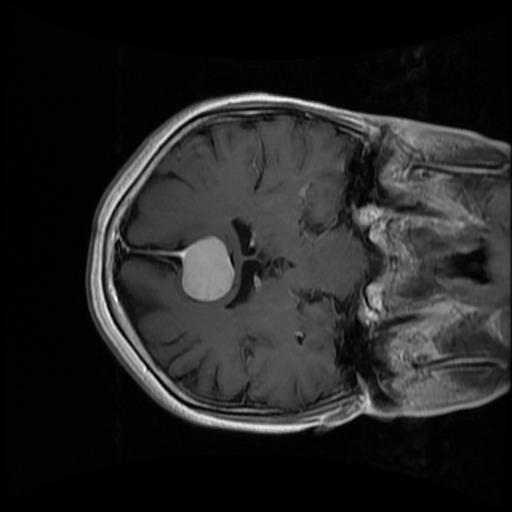meningioma: (180, 235, 234, 301)
